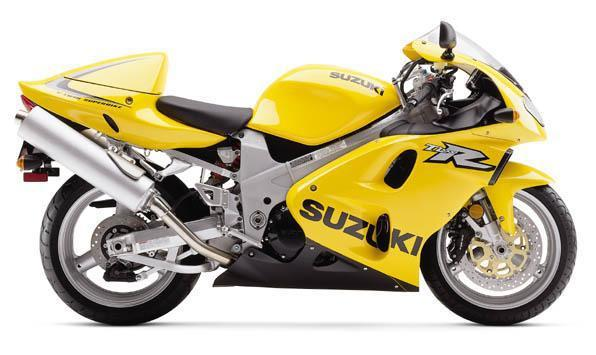motorcycle: (1, 21, 596, 340)
